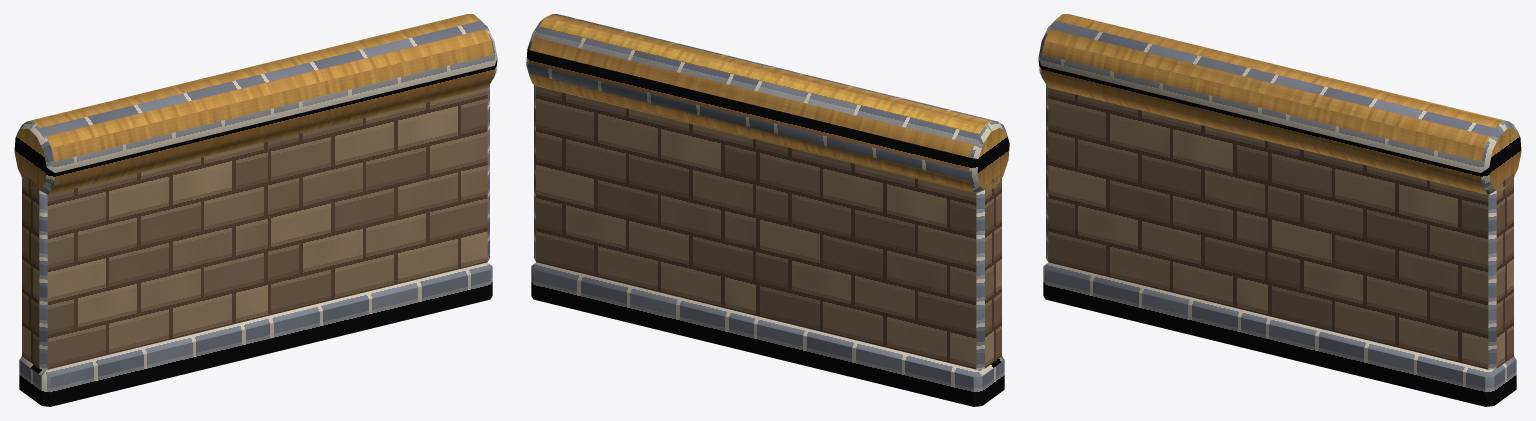
Rendered from cn_courtyard_wall_2.glb.
3 views of the same model, side by side, from view 1: azimuth 30°, elevation 25°; view 2: azimuth 150°, elevation 25°; view 3: azimuth 330°, elevation 25° (orthographic).
Visible parts, largest first — view 1: cn_courtyard_wall_3; view 2: cn_courtyard_wall_3; view 3: cn_courtyard_wall_3.
Boxes of the visible parts, left/top/right/bottom form: cn_courtyard_wall_3: left=14, top=14, right=497, bottom=406; cn_courtyard_wall_3: left=526, top=14, right=1009, bottom=406; cn_courtyard_wall_3: left=1038, top=14, right=1521, bottom=406.
Bounding box in the file's own units: 4 × 2.32 × 0.5823.
Materials: 3 (3 with a texture image).
